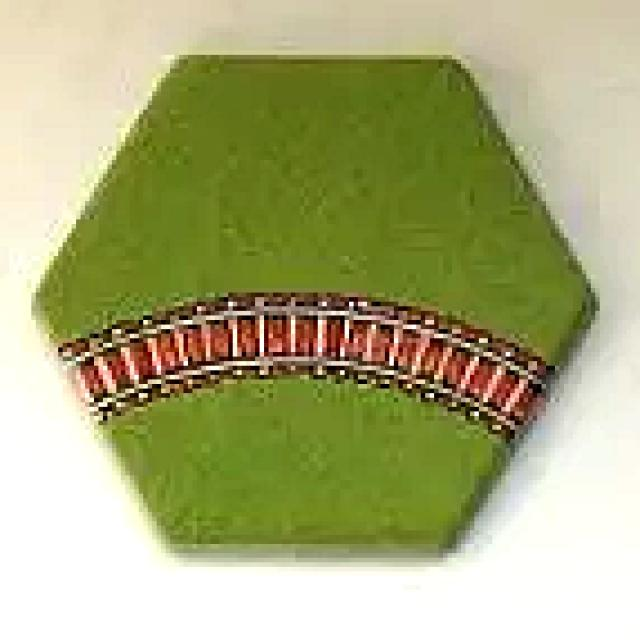2_0: (32, 49, 603, 568)
